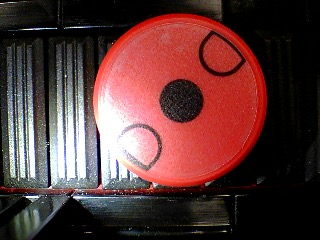BOHOMIPO2: (93, 13, 267, 187)
